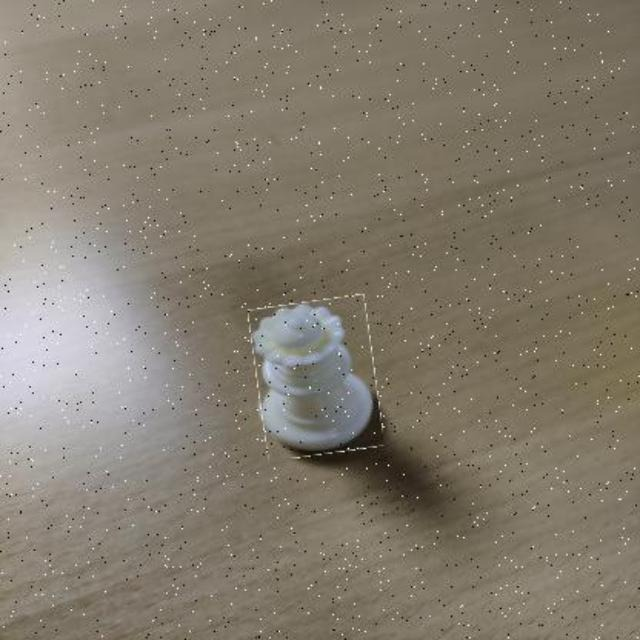white-queen: (252, 298, 379, 458)
